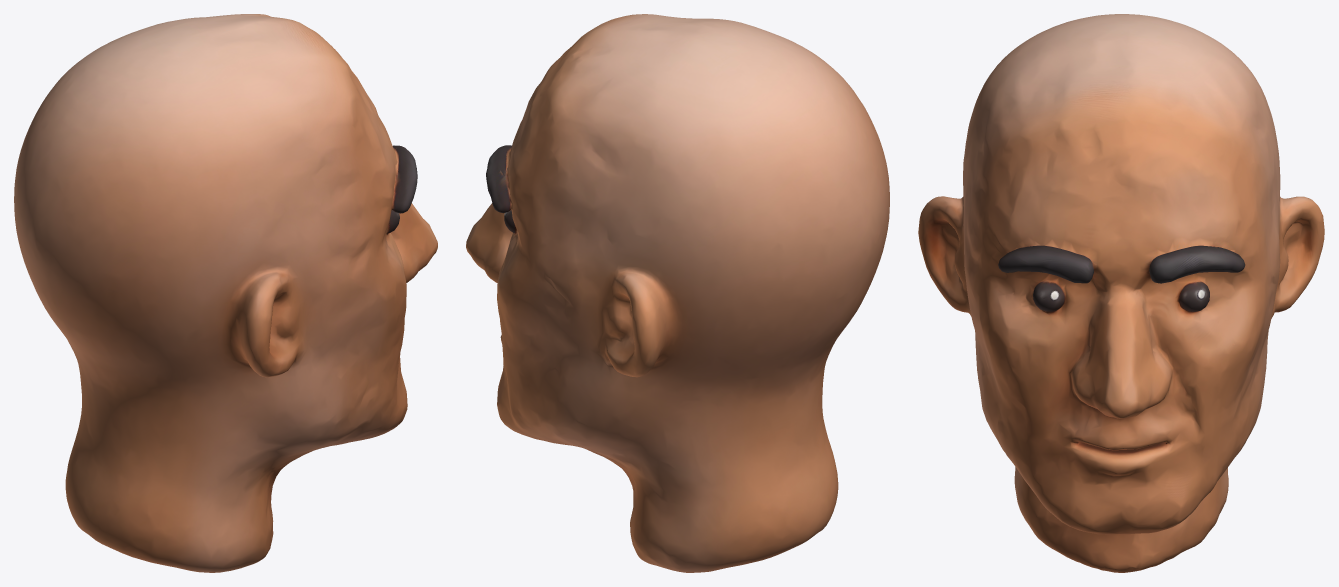
The model's file is head_man.glb.
3 views of the same model, side by side, from view 1: azimuth 30°, elevation 25°; view 2: azimuth 150°, elevation 25°; view 3: azimuth 270°, elevation 25° (orthographic).
Visible parts, largest first — view 1: tripo_node_1cf945df-f728-48fe-86b2-3b6aa497e711; view 2: tripo_node_1cf945df-f728-48fe-86b2-3b6aa497e711; view 3: tripo_node_1cf945df-f728-48fe-86b2-3b6aa497e711.
Boxes of the visible parts, x1,y1,x2,y2 form: tripo_node_1cf945df-f728-48fe-86b2-3b6aa497e711: (14,14,437,572); tripo_node_1cf945df-f728-48fe-86b2-3b6aa497e711: (466,14,889,572); tripo_node_1cf945df-f728-48fe-86b2-3b6aa497e711: (918,14,1324,572).
Bounding box in the file's own units: 0.8178 × 1 × 0.7184.
Materials: 1 (1 with a texture image).
